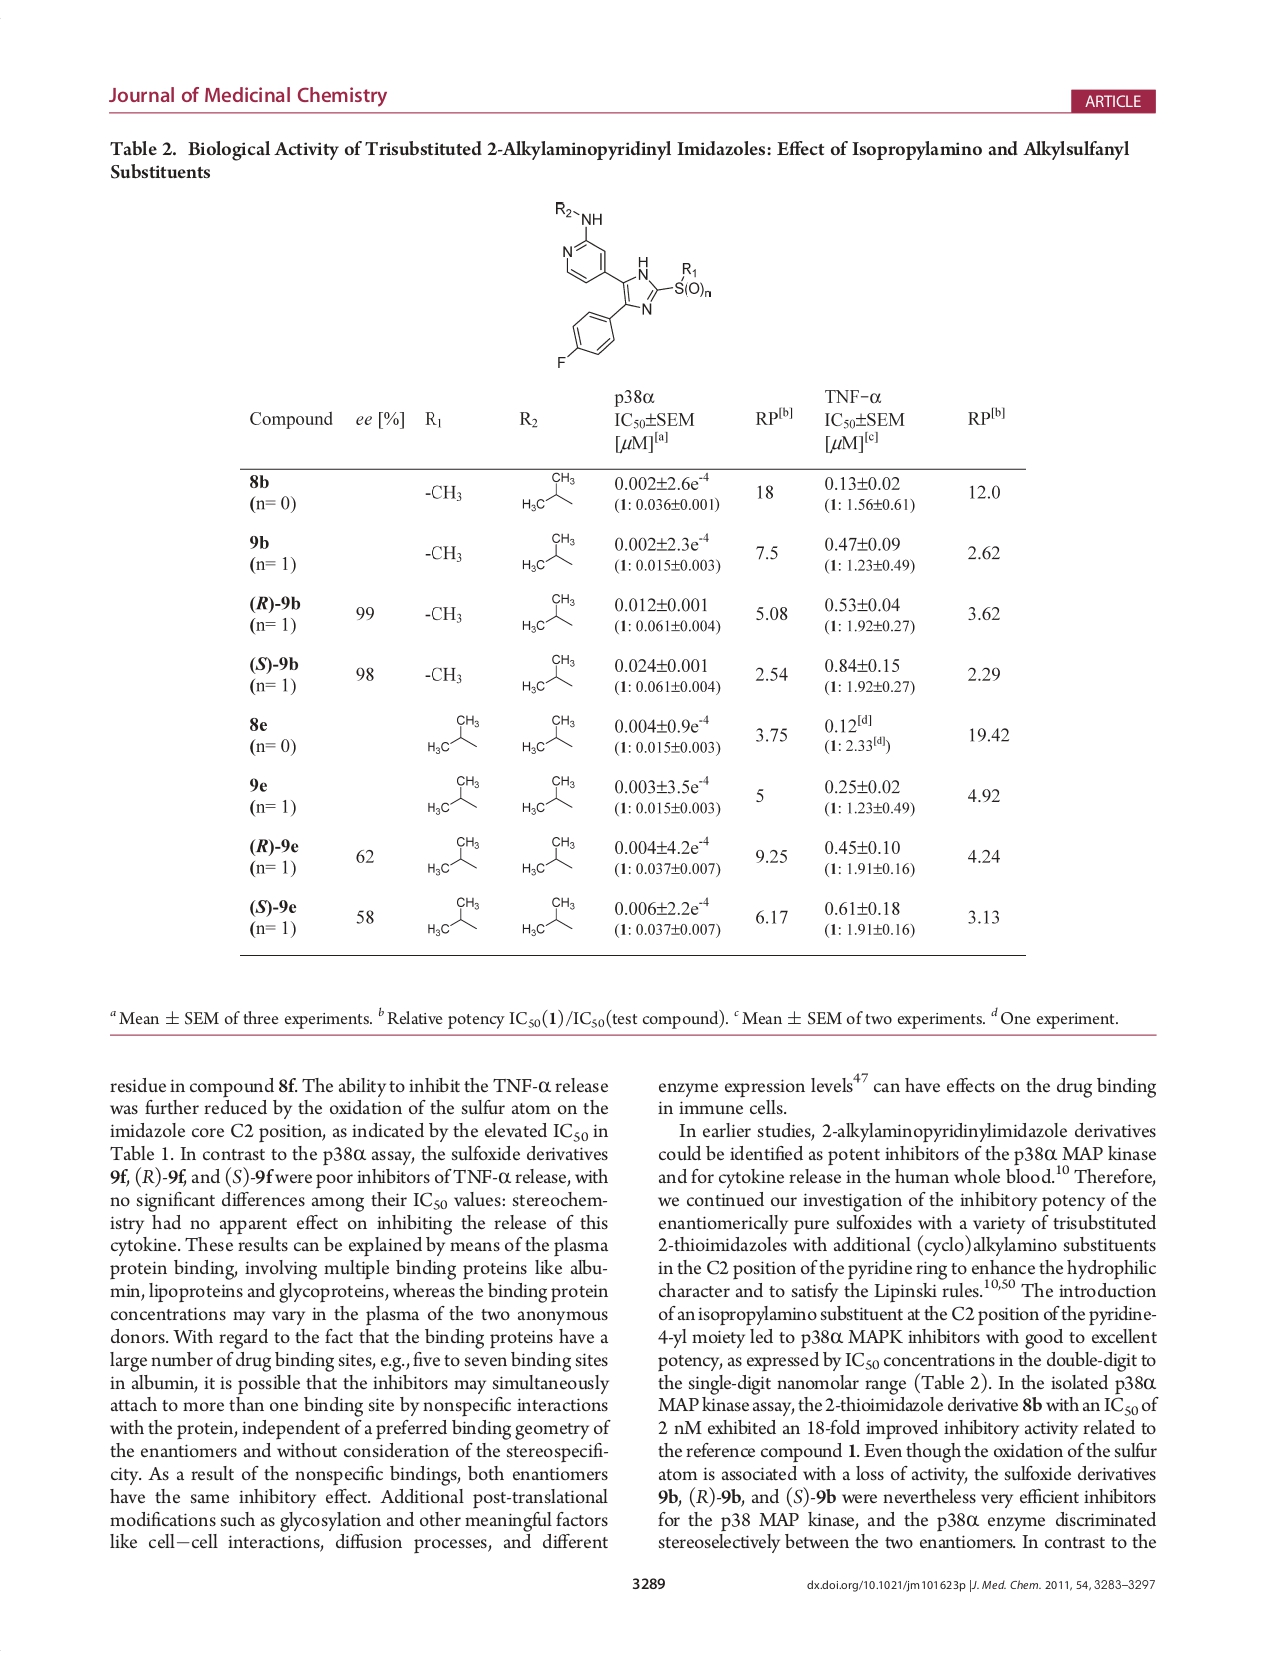exist_molecular: (541, 195, 719, 371), (517, 892, 584, 942), (519, 705, 578, 757), (521, 586, 578, 638), (420, 710, 484, 755), (519, 833, 578, 879), (426, 830, 484, 876), (422, 773, 481, 818), (423, 892, 481, 938), (519, 773, 578, 817), (521, 469, 580, 512), (520, 653, 578, 694), (519, 532, 576, 573)
